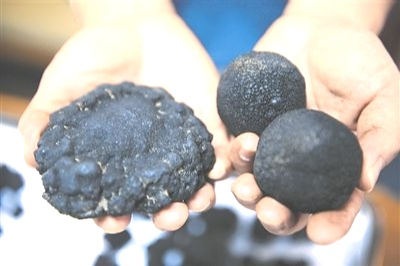halobolite: (27, 78, 218, 221), (256, 101, 364, 218), (216, 42, 310, 137)
